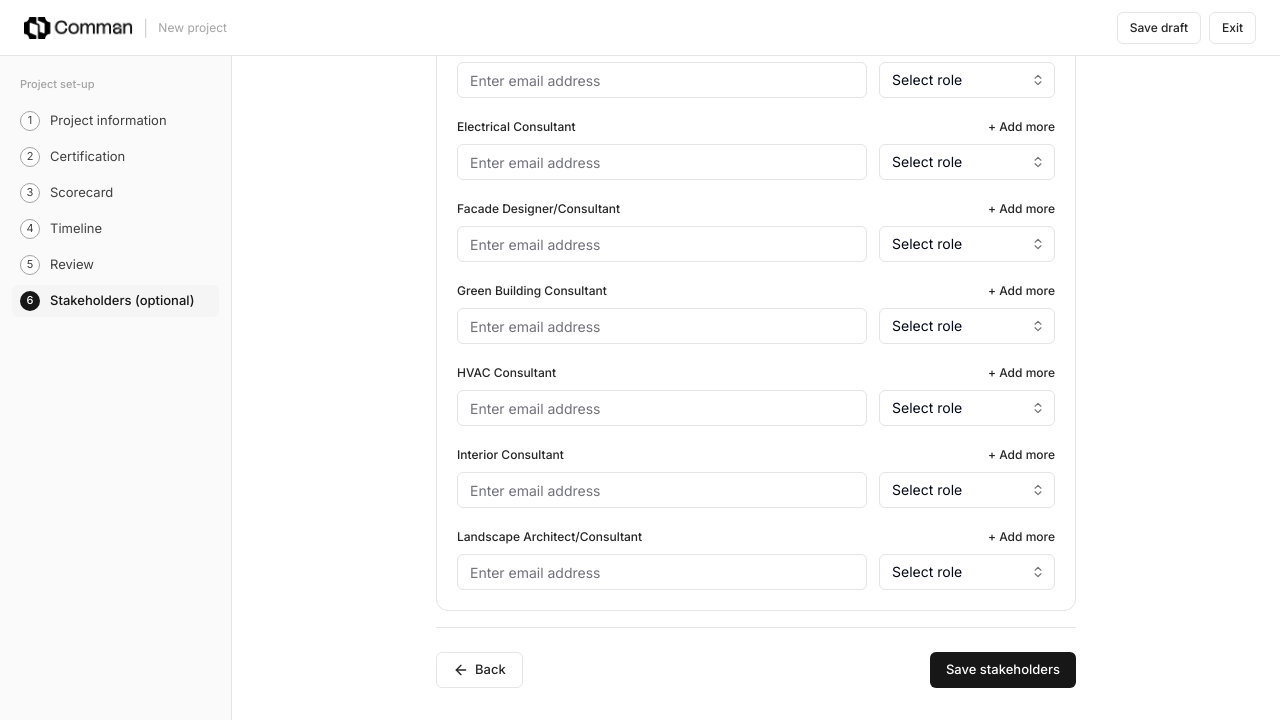
Test: NewProjectPage › returns to the review placeholder from the stakeholders back button
(page scrolled)
Click the button with test id "stakeholders-back" at [479, 670], box [436,652,523,688]
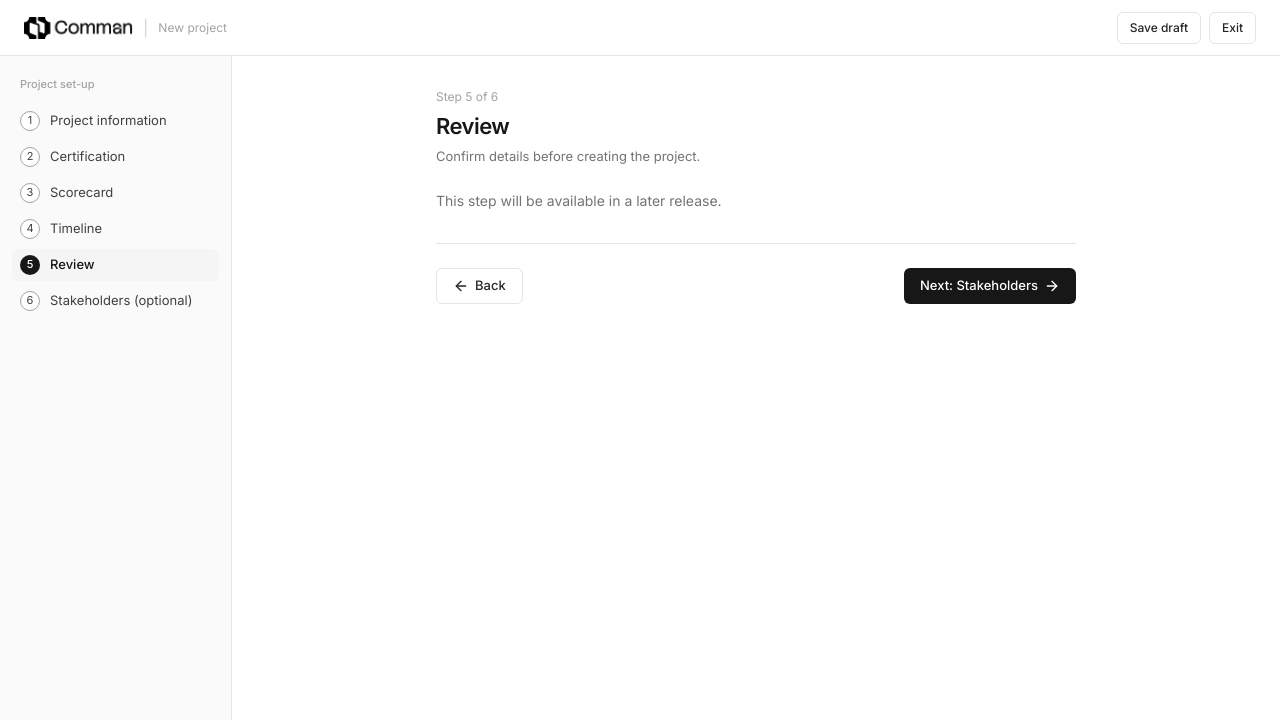
Expected: the heading "Review" is shown, [436,113,509,139]
